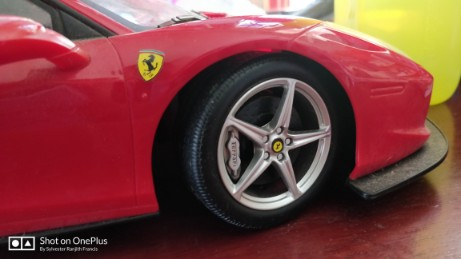unaligned_wheel: (165, 29, 344, 231)
